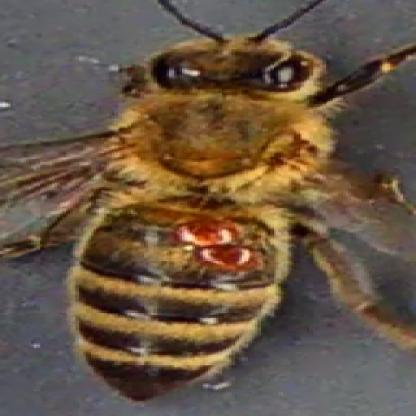bee: (84, 32, 309, 404)
vaoora: (177, 218, 230, 244), (199, 247, 258, 269)
